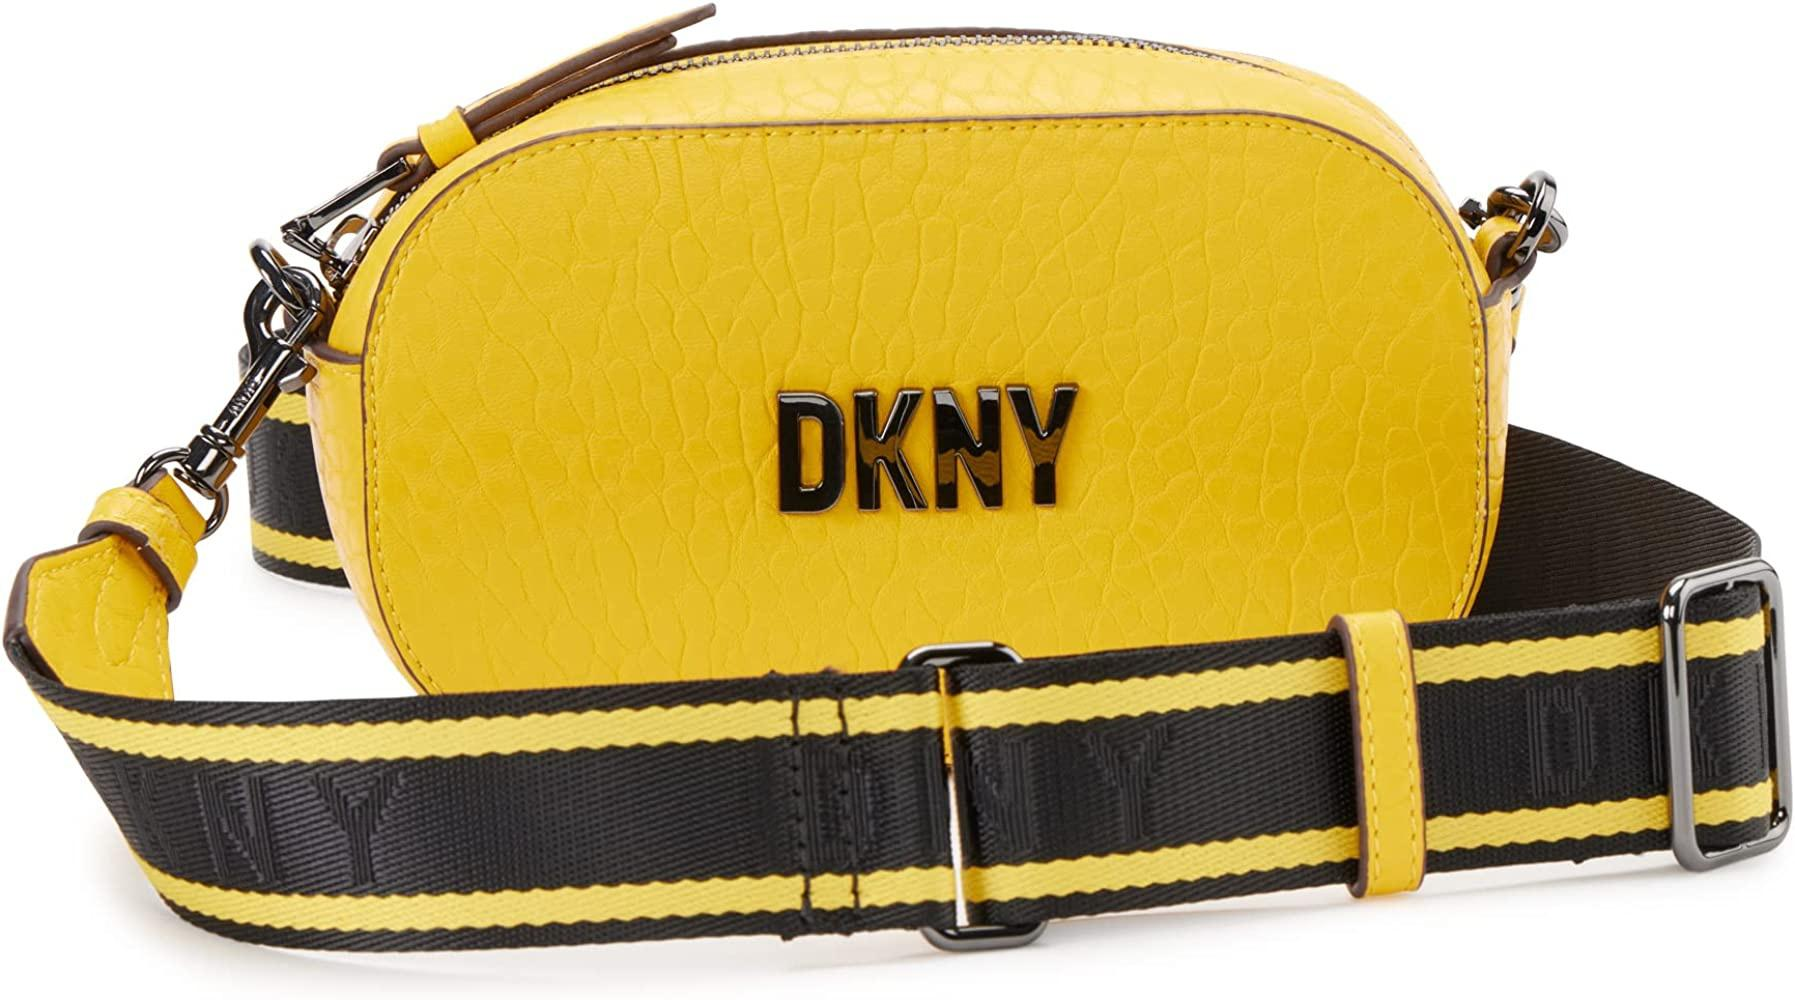DKNY: (776, 383, 1080, 514)
